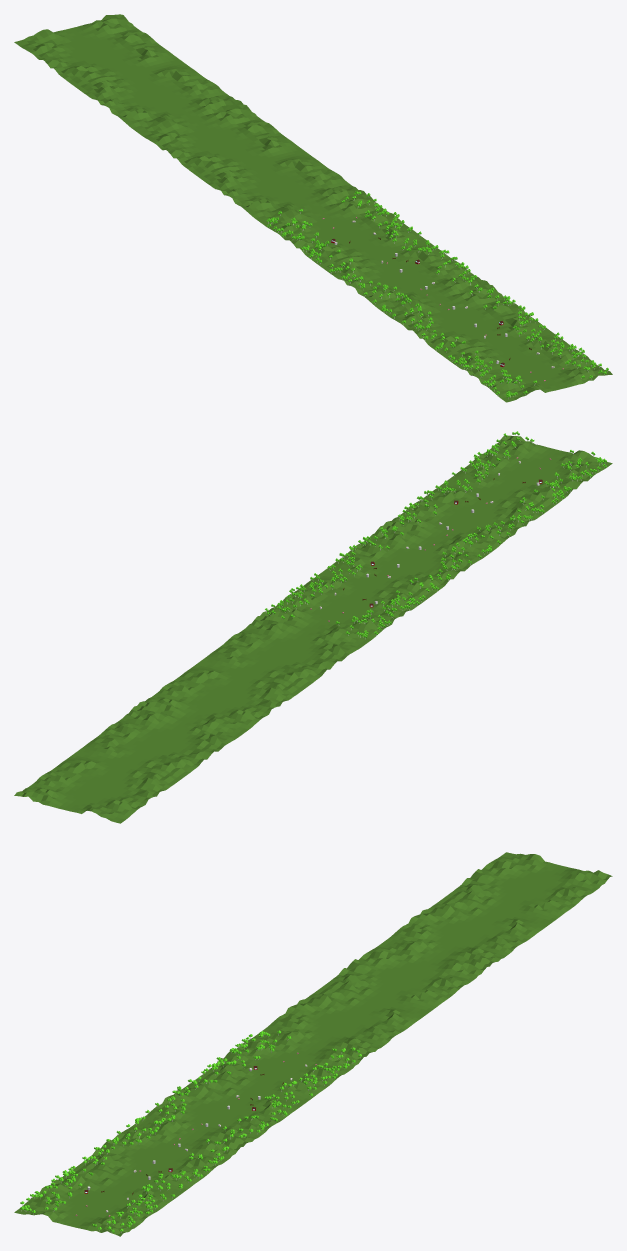
File: ground_level1.fbx
The picture shows the model from 3 angles, top to bottom: view 1: azimuth 30°, elevation 25°; view 2: azimuth 150°, elevation 25°; view 3: azimuth 330°, elevation 25°; orthographic projection.
Parts seen in each view (by area): view 1: ground; view 2: ground; view 3: ground.
Part boxes in pixels (left/top/right/bottom): ground: left=14, top=14, right=612, bottom=402; ground: left=14, top=435, right=612, bottom=823; ground: left=14, top=852, right=612, bottom=1236.
Bounding box in the file's own units: 6208 × 549 × 48061.
